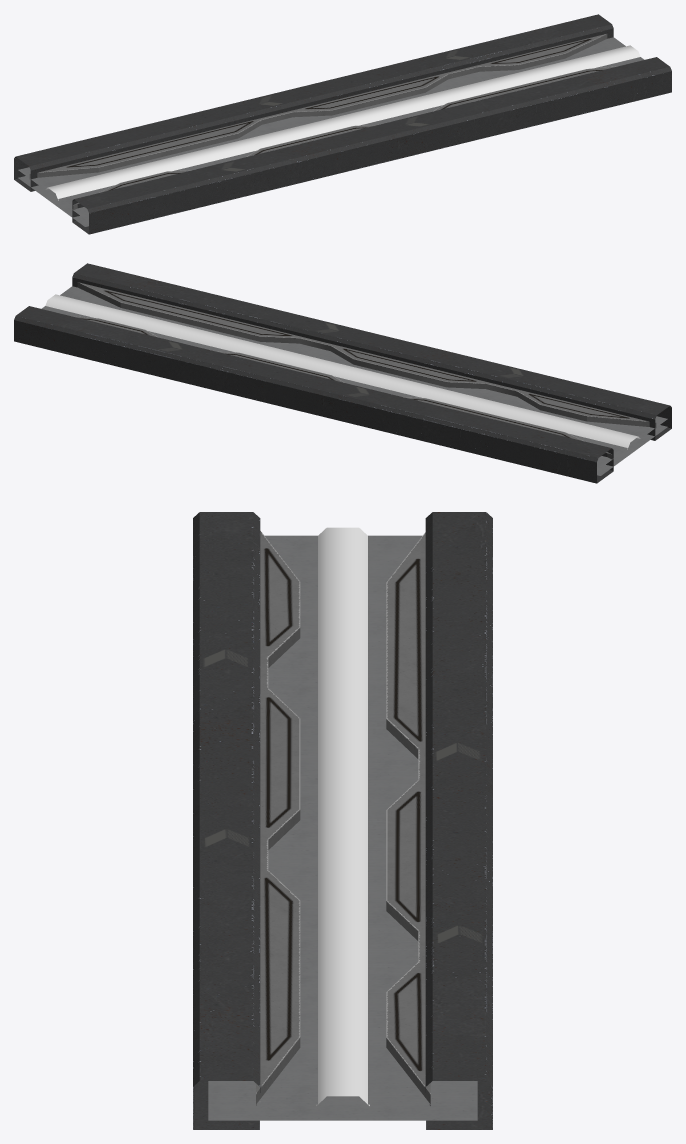
The model's file is connecter_line.fbx.
3 views of the same model, one above another, from view 1: azimuth 30°, elevation 25°; view 2: azimuth 150°, elevation 25°; view 3: azimuth 270°, elevation 25° (orthographic). The views are drawn at different scales.
Parts seen in each view (by area): view 1: Connecter_Line, Connecter_cainLine; view 2: Connecter_Line, Connecter_cainLine; view 3: Connecter_Line, Connecter_cainLine.
Boxes of the visible parts, x1,y1,x2,y2 form: Connecter_Line: [14, 14, 671, 234]; Connecter_cainLine: [45, 45, 640, 200]; Connecter_Line: [14, 263, 671, 483]; Connecter_cainLine: [45, 294, 640, 449]; Connecter_Line: [193, 512, 492, 1129]; Connecter_cainLine: [316, 527, 369, 1105].
Size of the model in its own units: 100 by 4 by 22.3.
